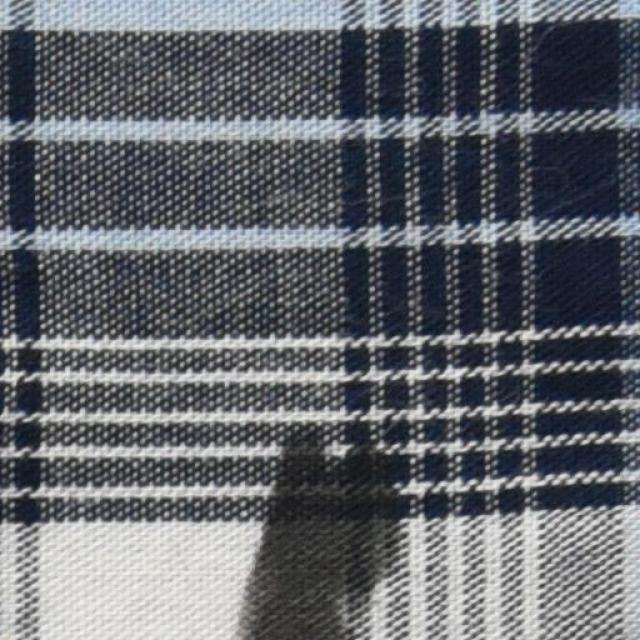Stain: (229, 418, 405, 639)
